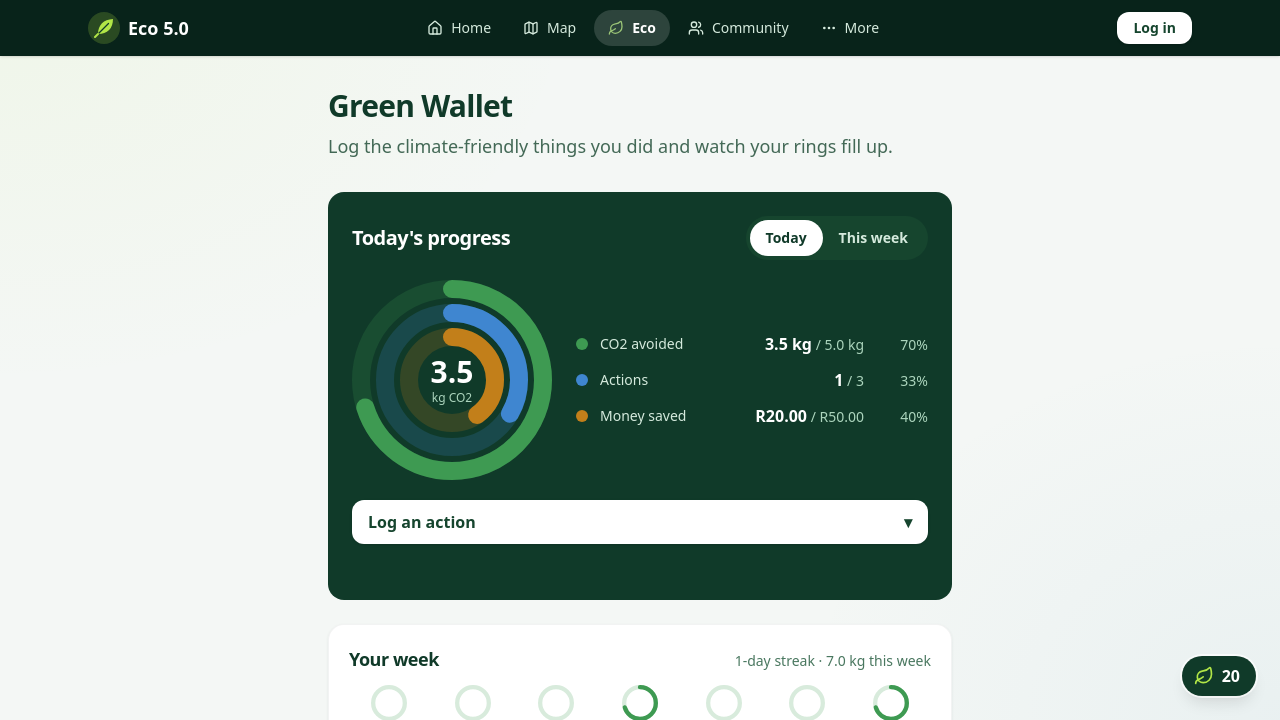
Test case: Green Wallet (/tracker) › switches the rings between today and the last 7 days
This screenshot has width=1280, height=720.
Expected: the text "70%" is shown, [900,335,928,354]
Click the button "This week" at (873, 238), box [823,220,924,256]
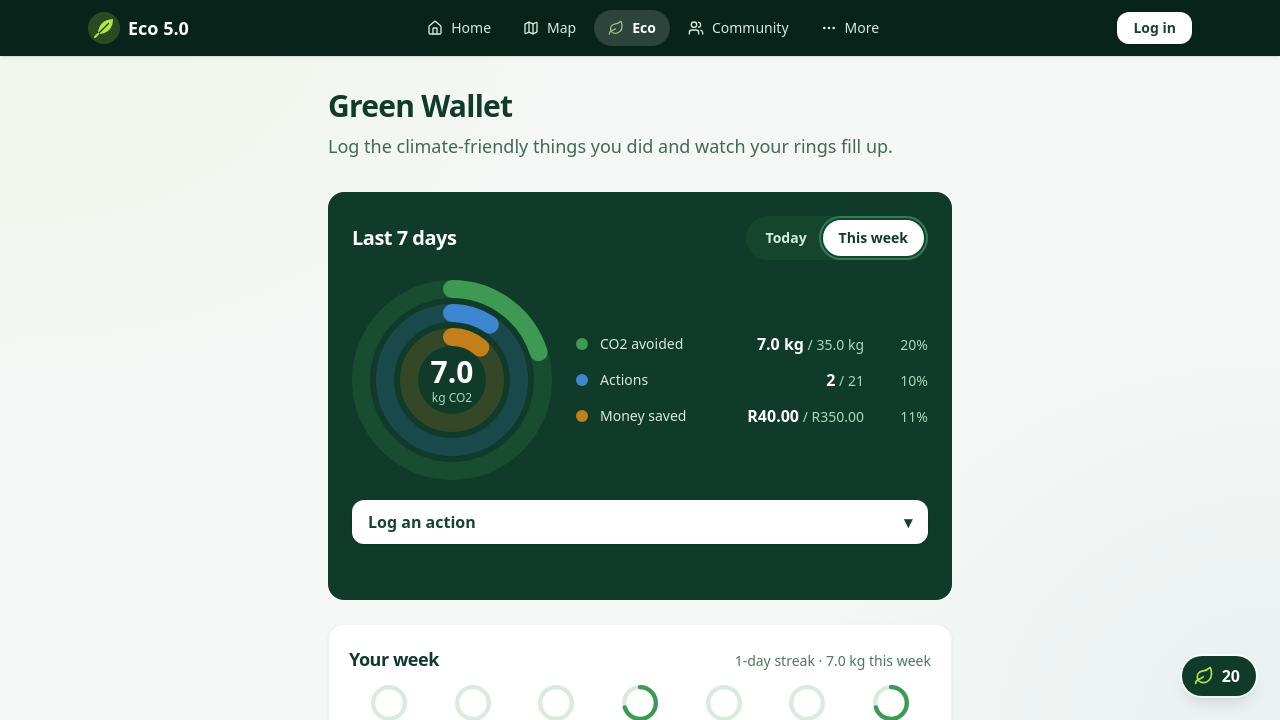
Result: the text "7.0 kg" is shown at [757,333,804,355]
Result: the text "/ 35.0 kg" is shown at [804,335,864,354]
